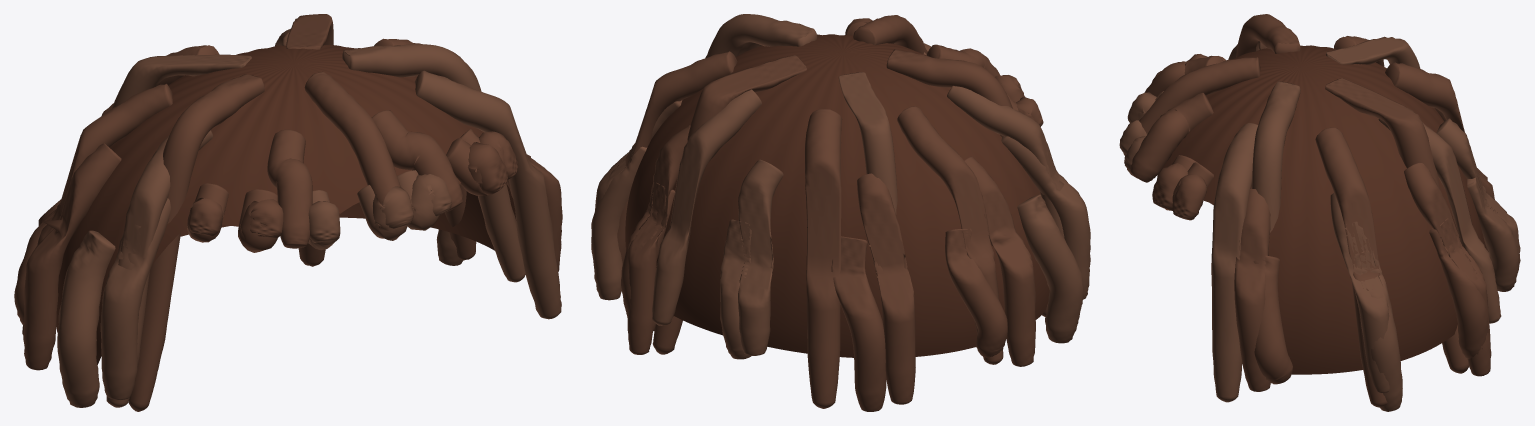
File: Masculine-locs-bucket251-hair.glb
The picture shows the model from 3 angles, left to right: view 1: azimuth 30°, elevation 25°; view 2: azimuth 150°, elevation 25°; view 3: azimuth 270°, elevation 25°; orthographic projection. The views are drawn at different scales.
Visible parts, largest first — view 1: 226 hair / Hair / loc main251.001, 226 hair / Hair / loc accent251.001, 226 hair / Hair / recessed roots251.001; view 2: 226 hair / Hair / loc main251.001, 226 hair / Hair / recessed roots251.001, 226 hair / Hair / loc accent251.001; view 3: 226 hair / Hair / recessed roots251.001, 226 hair / Hair / loc main251.001, 226 hair / Hair / loc accent251.001.
Boxes of the visible parts, left/top/right/bottom form: 226 hair / Hair / loc main251.001: left=14, top=14, right=562, bottom=411; 226 hair / Hair / loc accent251.001: left=57, top=28, right=561, bottom=407; 226 hair / Hair / recessed roots251.001: left=56, top=44, right=516, bottom=364; 226 hair / Hair / loc main251.001: left=617, top=15, right=1048, bottom=411; 226 hair / Hair / recessed roots251.001: left=625, top=34, right=1049, bottom=357; 226 hair / Hair / loc accent251.001: left=591, top=14, right=1090, bottom=359; 226 hair / Hair / recessed roots251.001: left=1162, top=45, right=1485, bottom=374; 226 hair / Hair / loc main251.001: left=1130, top=14, right=1494, bottom=407; 226 hair / Hair / loc accent251.001: left=1119, top=36, right=1520, bottom=411.
Size of the model in its own units: 1.13 by 0.6611 by 0.8968.
